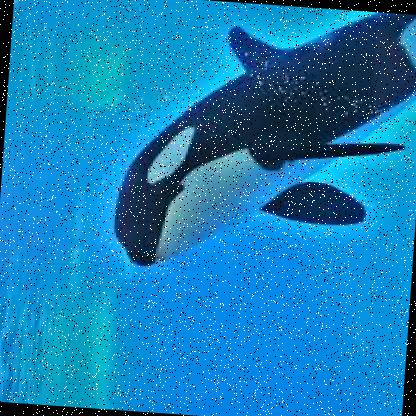killer_whale: (90, 0, 415, 299)
